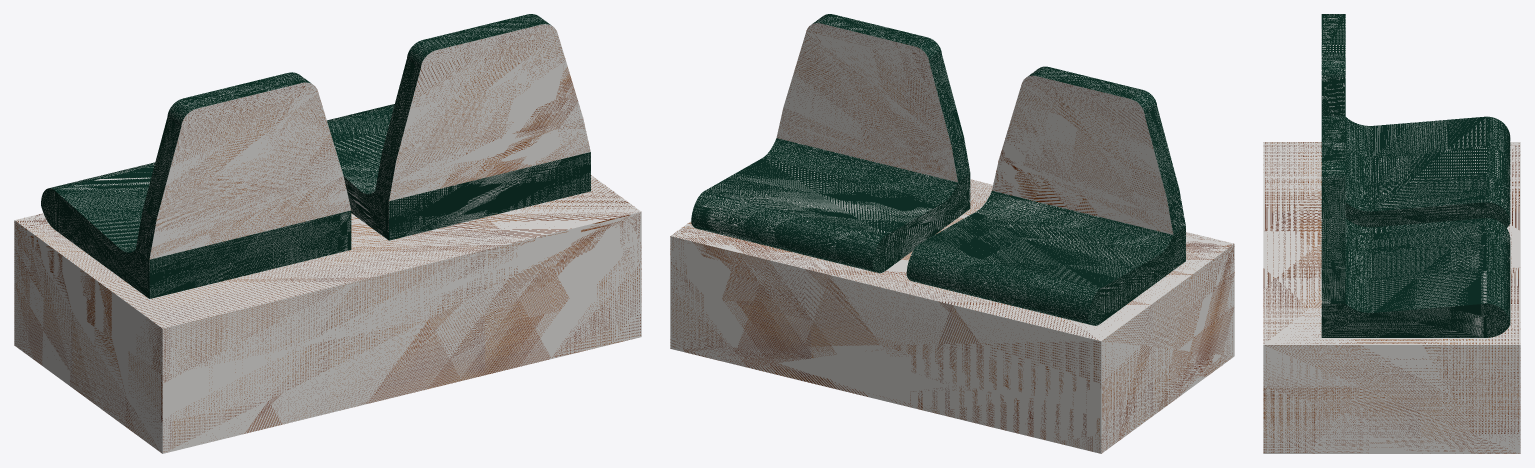
The picture shows the model from 3 angles, left to right: view 1: azimuth 30°, elevation 25°; view 2: azimuth 150°, elevation 25°; view 3: azimuth 270°, elevation 25°; orthographic projection. The views are drawn at different scales.
Visible parts, largest first — view 1: mesh3_mesh3-geometry, mesh1_mesh1-geometry, mesh2_mesh2-geometry; view 2: mesh3_mesh3-geometry, mesh1_mesh1-geometry, mesh2_mesh2-geometry; view 3: mesh3_mesh3-geometry, mesh2_mesh2-geometry, mesh1_mesh1-geometry.
Boxes of the visible parts, x1,y1,x2,y2 form: mesh3_mesh3-geometry: [14, 175, 641, 453]; mesh1_mesh1-geometry: [41, 72, 351, 298]; mesh2_mesh2-geometry: [327, 14, 590, 240]; mesh3_mesh3-geometry: [670, 179, 1234, 453]; mesh1_mesh1-geometry: [906, 66, 1185, 325]; mesh2_mesh2-geometry: [691, 14, 970, 273]; mesh3_mesh3-geometry: [1263, 142, 1520, 453]; mesh2_mesh2-geometry: [1321, 115, 1510, 337]; mesh1_mesh1-geometry: [1321, 14, 1510, 227].
Bounding box in the file's own units: 0.7772 × 0.4718 × 0.4164.
